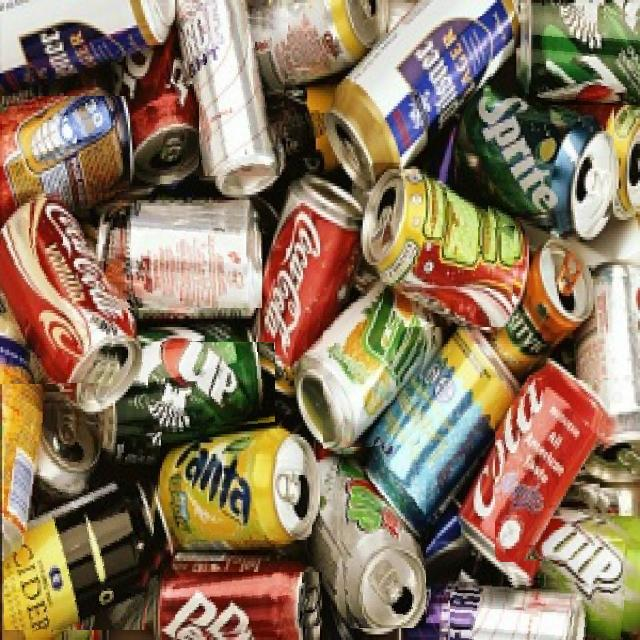Cans: (4, 412, 162, 630), (339, 16, 491, 166), (495, 380, 610, 563), (383, 170, 516, 327), (0, 219, 119, 384), (173, 11, 288, 176), (488, 98, 614, 228), (323, 302, 428, 449), (334, 462, 426, 628), (117, 206, 262, 308), (3, 96, 130, 202), (133, 342, 275, 434), (172, 454, 312, 540), (521, 7, 640, 105), (450, 575, 626, 640), (175, 572, 323, 640), (139, 84, 199, 190)
